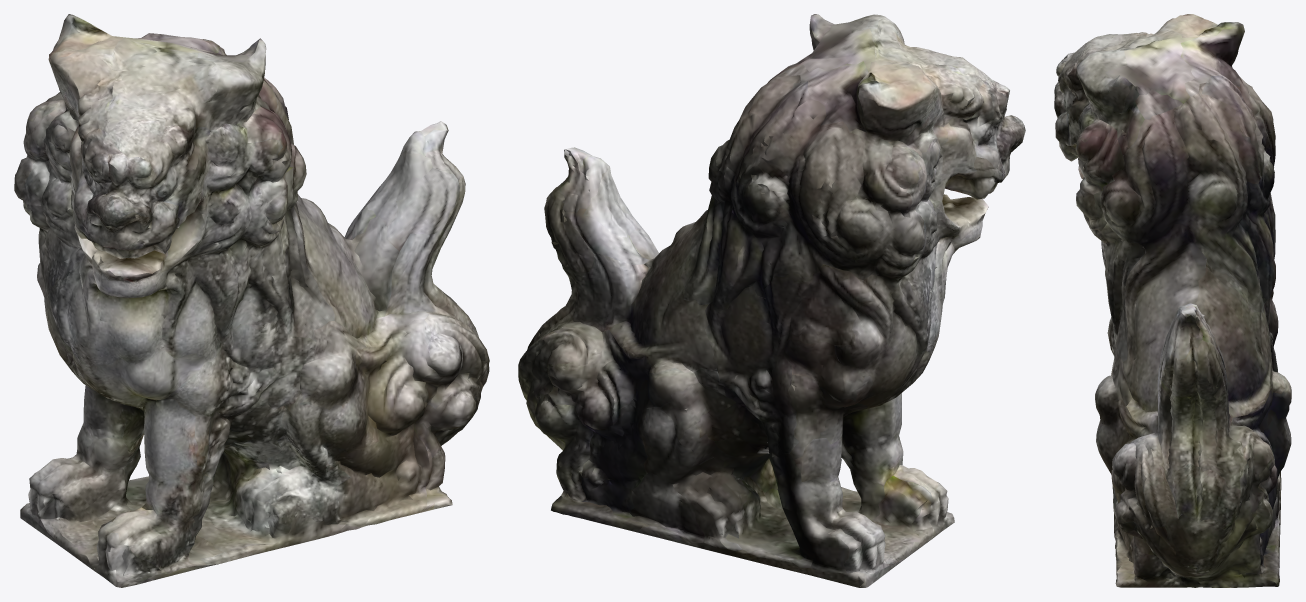
Rendered from komainu.glb.
3 renders of one model, left to right at view 1: azimuth 30°, elevation 25°; view 2: azimuth 150°, elevation 25°; view 3: azimuth 270°, elevation 25°, orthographic. The views are drawn at different scales.
Parts seen in each view (by area): view 1: Object_4; view 2: Object_4; view 3: Object_4.
Part boxes in pixels (bbox=[...]): Object_4: bbox=[14, 14, 489, 587]; Object_4: bbox=[518, 14, 1025, 587]; Object_4: bbox=[1054, 14, 1291, 587].
Size of the model in its own units: 0.5661 by 0.6193 by 0.306.
1 material, 1 textured.
